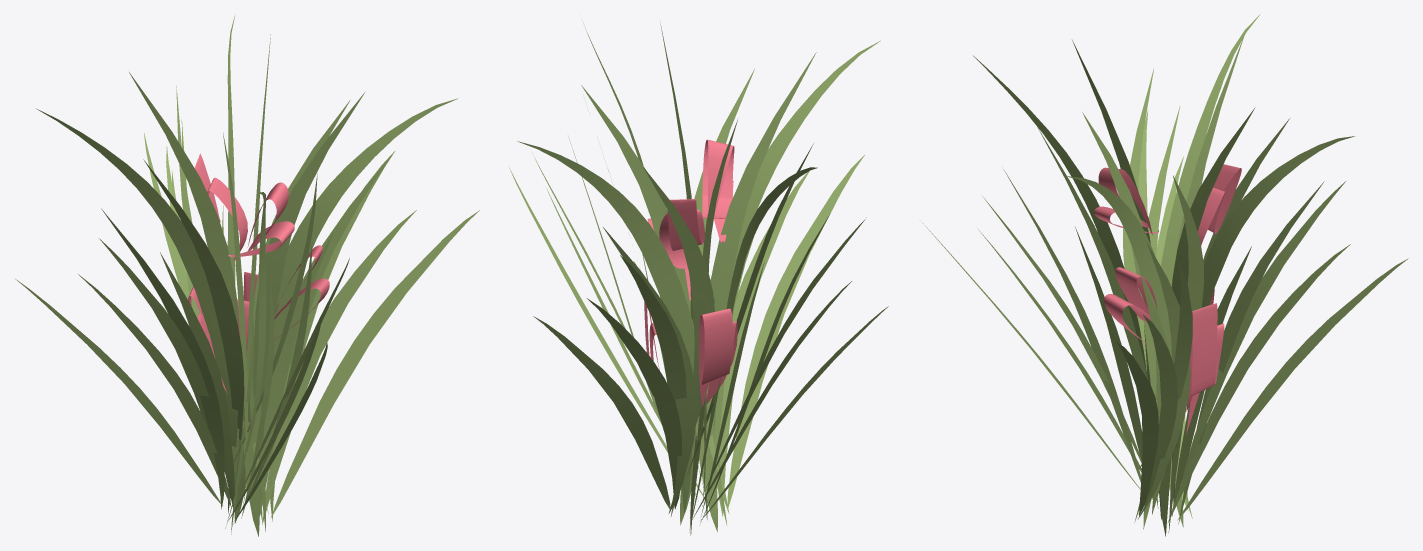
File: grass 4.fbx
3 renders of one model, left to right at view 1: azimuth 30°, elevation 25°; view 2: azimuth 150°, elevation 25°; view 3: azimuth 270°, elevation 25°, orthographic. The views are drawn at different scales.
Parts seen in each view (by area): view 1: grass4; view 2: grass4; view 3: grass4.
Boxes of the visible parts, <box> form: grass4: <box>15,14,479,536</box>; grass4: <box>509,21,888,535</box>; grass4: <box>920,14,1408,536</box>.
Size of the model in its own units: 76.33 by 78.21 by 76.33.
